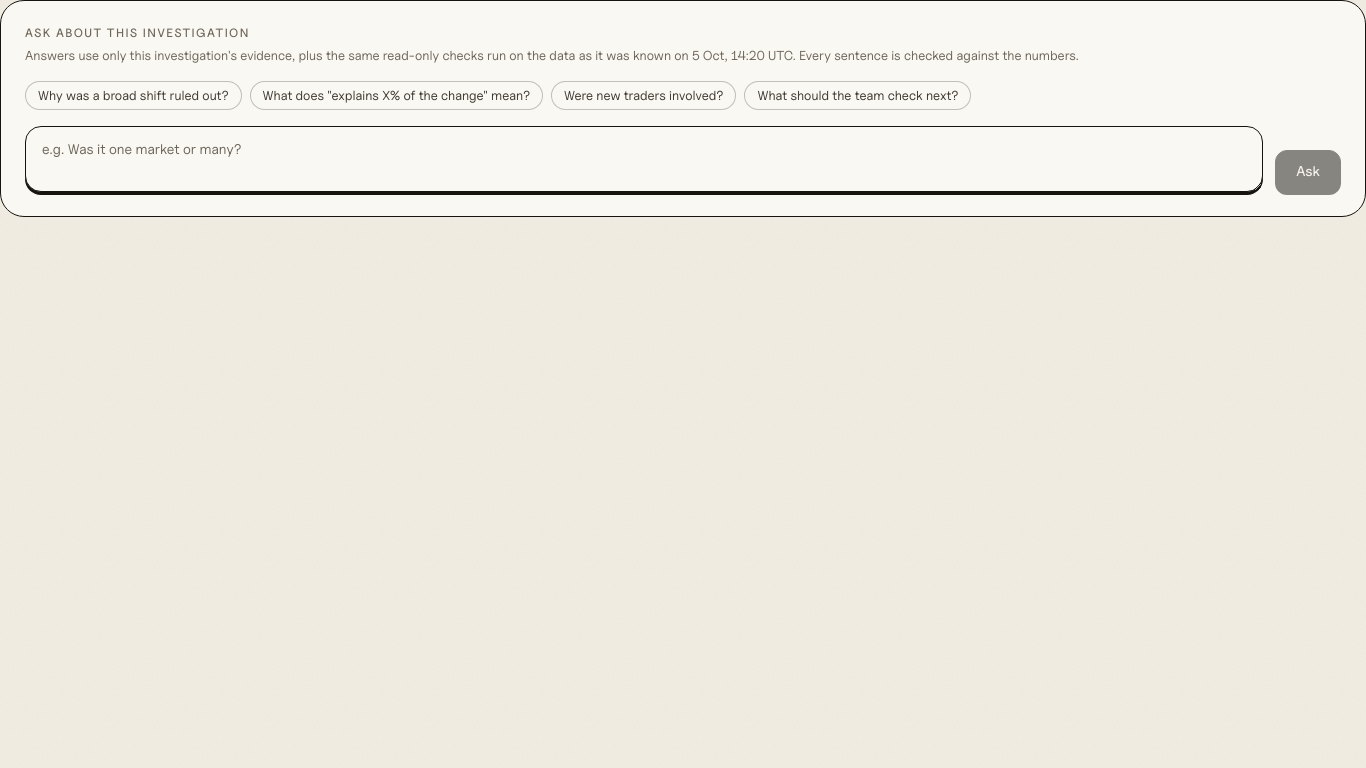
Scenario: AskPanel › sends the question for this case and shows a verified, tagged answer with its evidence
In the text box: (644, 159) [25, 126, 1263, 192], type "Which category drove it?"
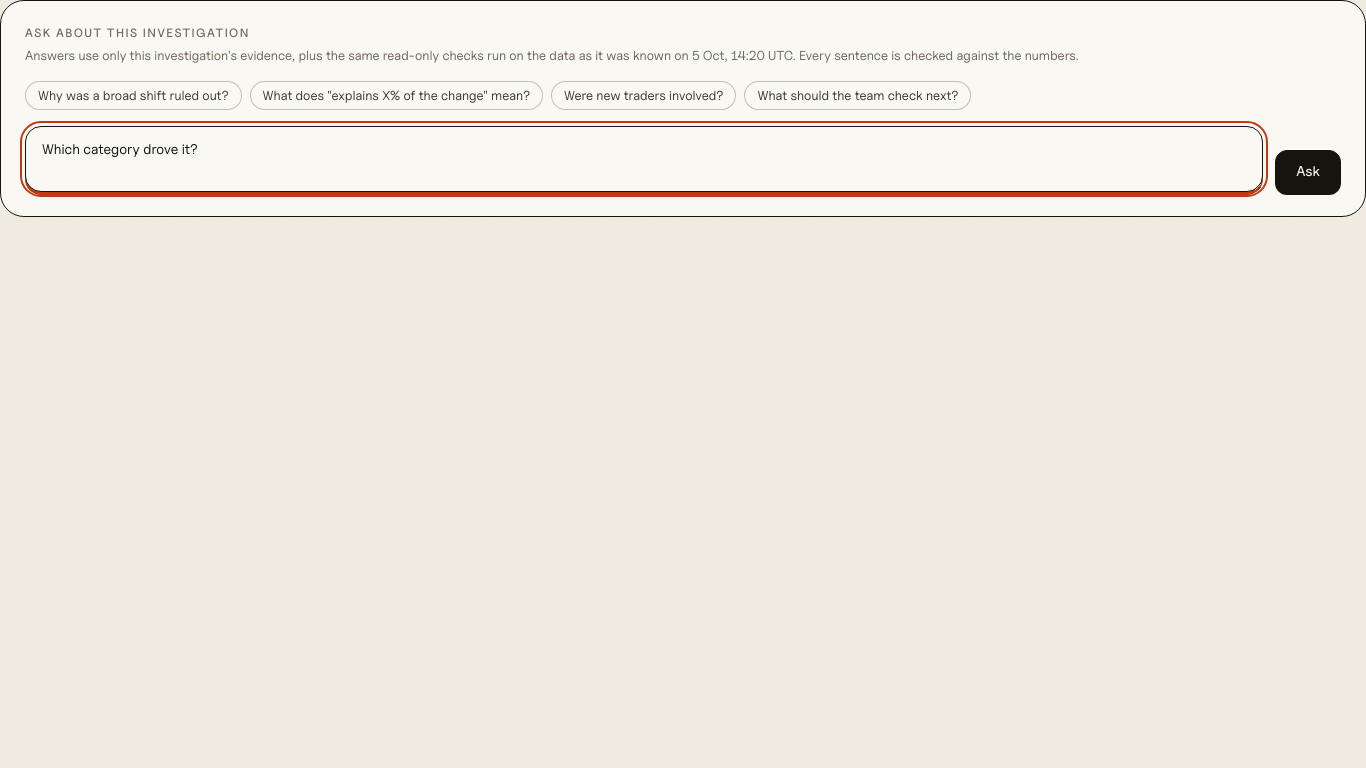
Click the button "Ask": (1308, 171) [1275, 150, 1341, 192]
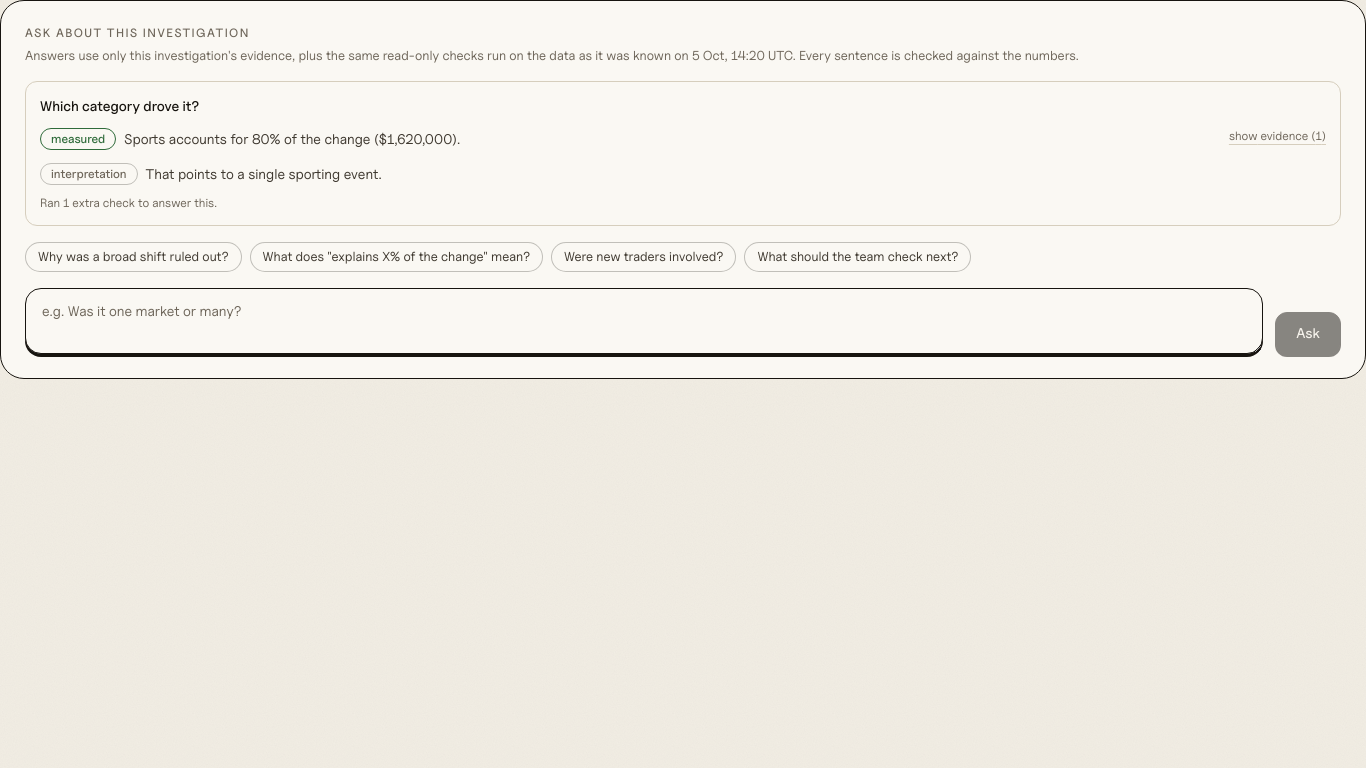
Result: the text "Sports accounts for 80% of the change ($1,620,000)." is shown at [124, 130, 460, 147]
Result: the text "measured" is shown at [40, 128, 116, 150]
Result: the text "interpretation" is shown at [40, 163, 138, 185]
Click the button "show evidence (1)": (1277, 136) [1229, 128, 1326, 144]
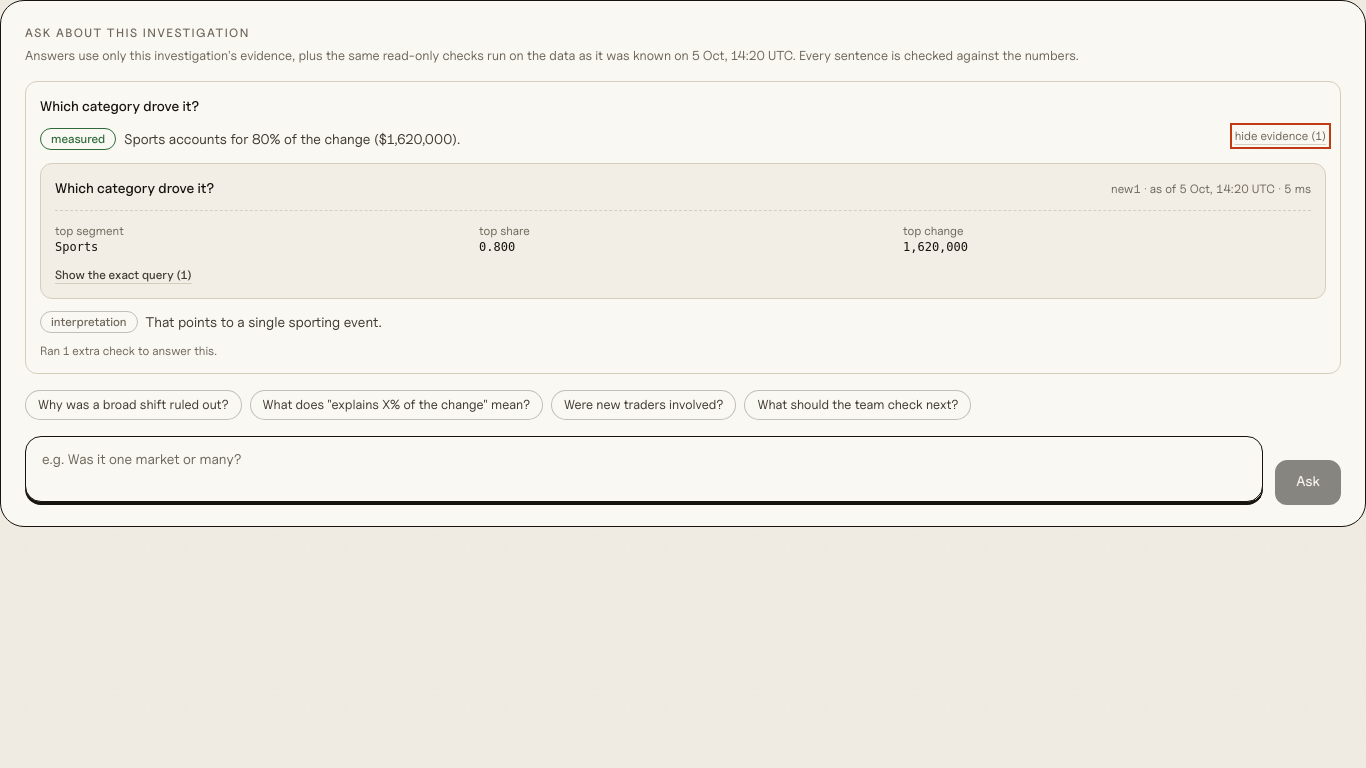
Result: the element with test id "receipt" shows "Which category drove it?" at [55, 179, 214, 196]
